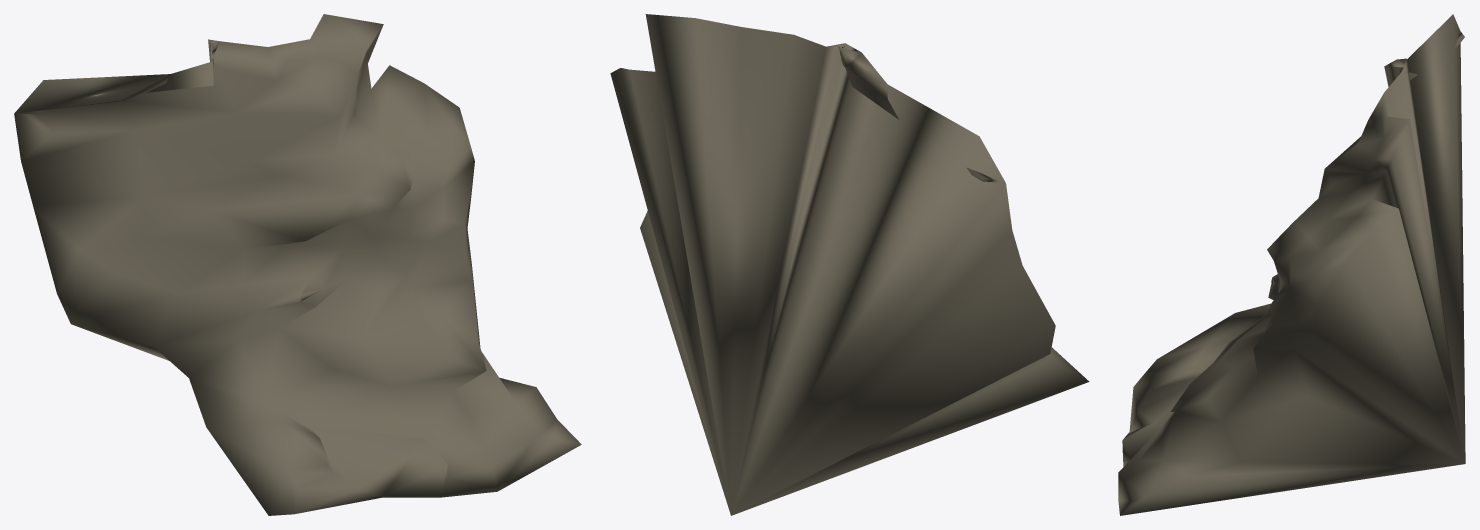
The model's file is cliff-face-b-lod1.glb.
3 views of the same model, side by side, from view 1: azimuth 30°, elevation 25°; view 2: azimuth 150°, elevation 25°; view 3: azimuth 270°, elevation 25° (orthographic). The views are drawn at different scales.
Visible parts, largest first — view 1: cliff-face-b.001; view 2: cliff-face-b.001; view 3: cliff-face-b.001.
Boxes of the visible parts, x1=… form: cliff-face-b.001: x1=14, y1=14, x2=581, y2=515; cliff-face-b.001: x1=610, y1=14, x2=1089, y2=515; cliff-face-b.001: x1=1118, y1=14, x2=1465, y2=515.
Size of the model in its own units: 9.63 by 8.94 by 7.47.
